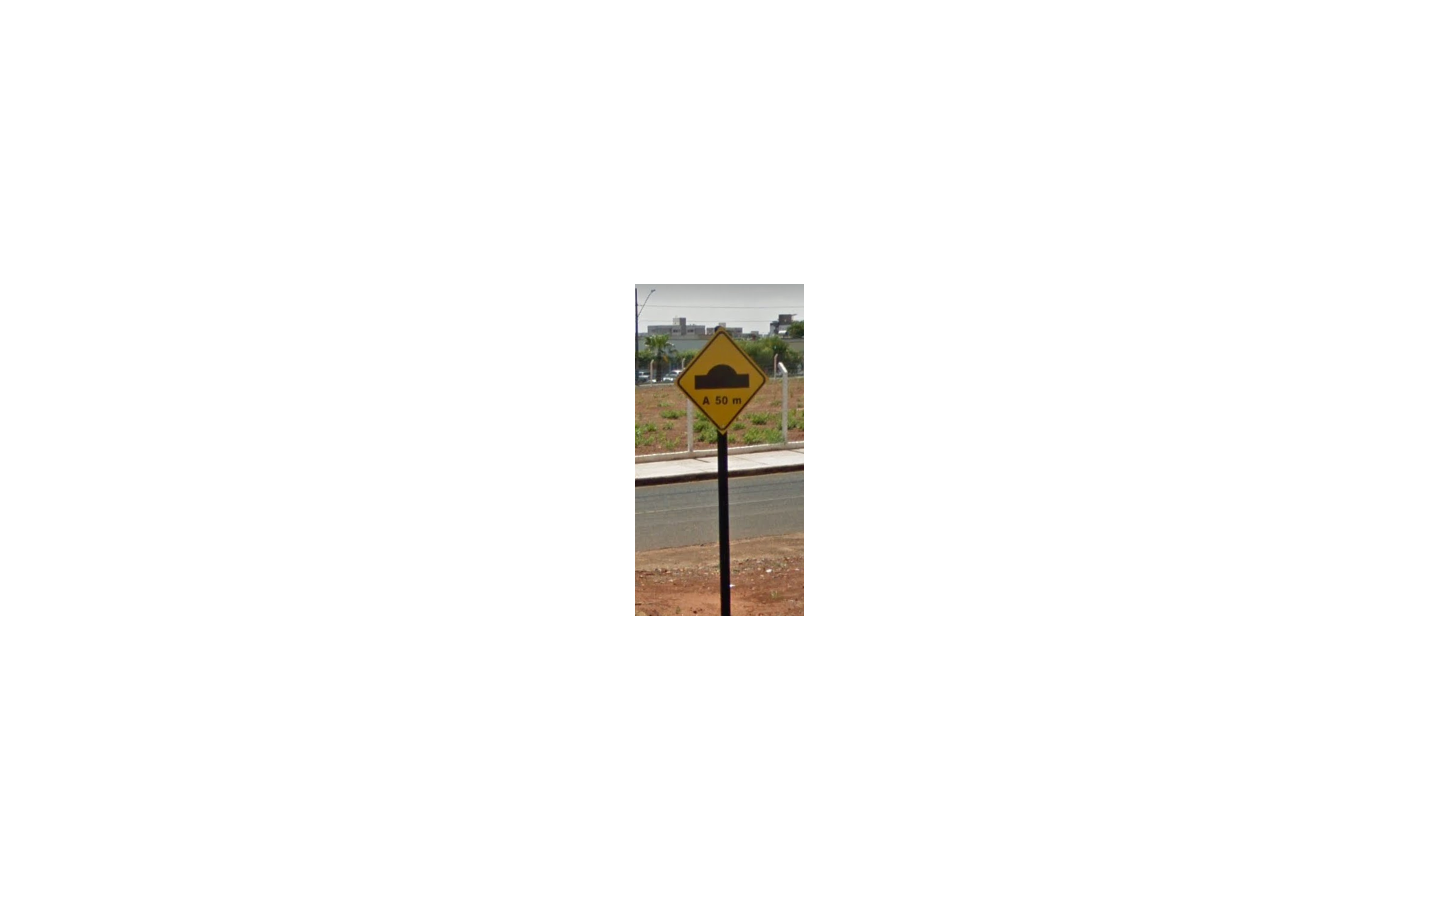l50m: (673, 325, 769, 433)
